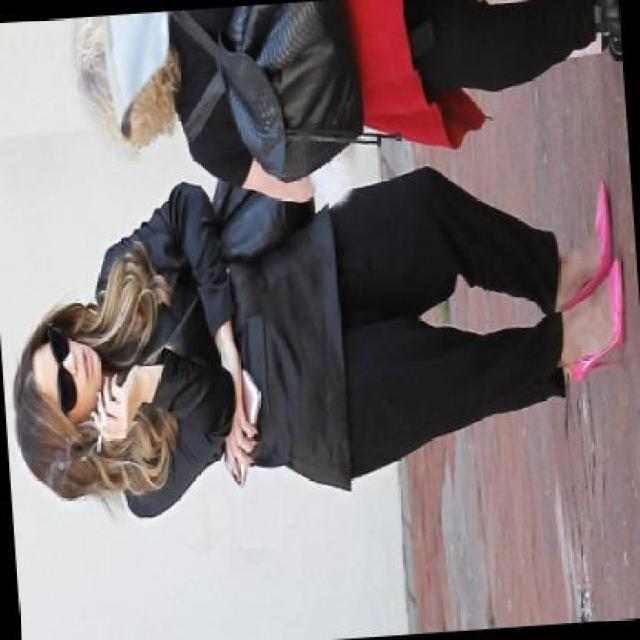cigarette: (92, 411, 108, 454)
